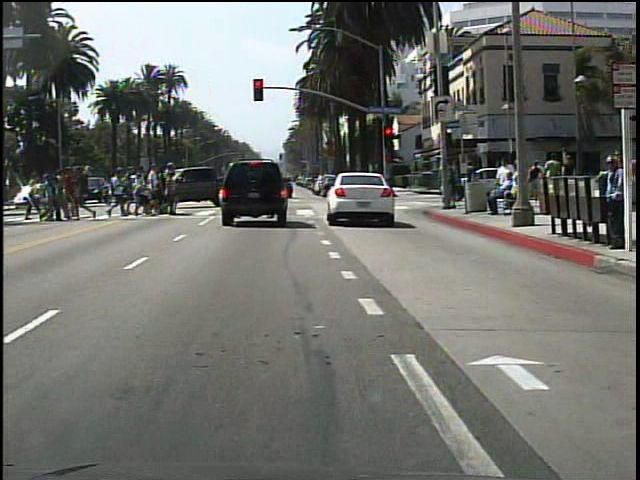person: (597, 156, 627, 259)
